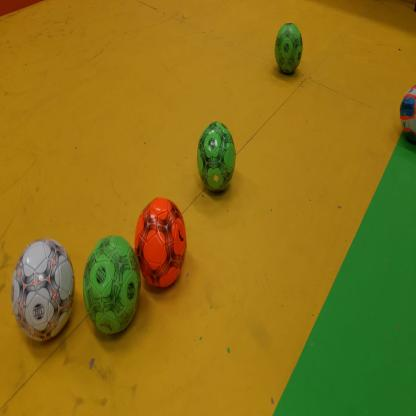ball: (12, 239, 74, 342), (84, 236, 140, 335), (136, 198, 186, 291), (197, 122, 235, 194), (275, 23, 302, 75), (400, 86, 416, 141)
